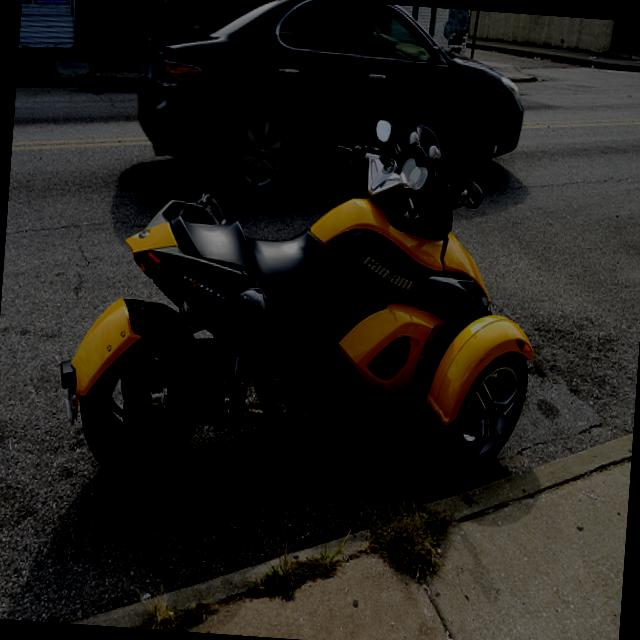Vehicle: (52, 95, 552, 509), (129, 0, 529, 211)
